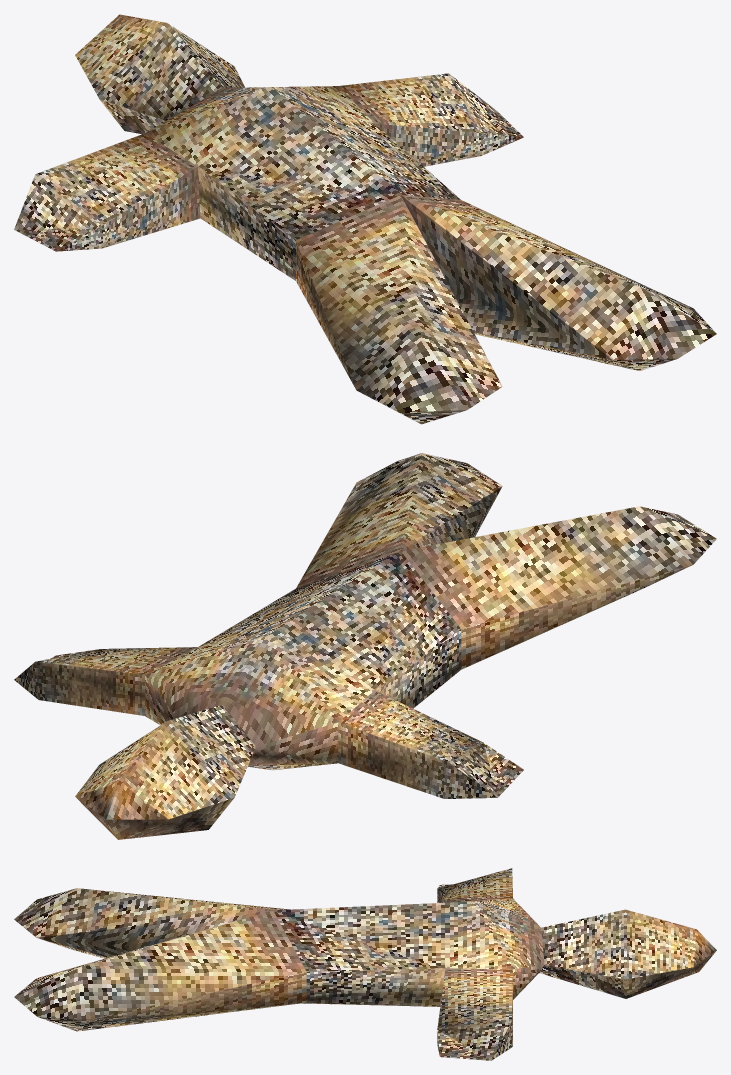
The model's file is pir_m_hnd_dol_spirit_a.fbx.
The picture shows the model from 3 angles, top to bottom: view 1: azimuth 30°, elevation 25°; view 2: azimuth 150°, elevation 25°; view 3: azimuth 270°, elevation 25°; orthographic projection. The views are drawn at different scales.
Visible parts, largest first — view 1: lod_high; view 2: lod_high; view 3: lod_high.
Boxes of the visible parts, bbox=[...] form: lod_high: bbox=[14, 14, 716, 424]; lod_high: bbox=[14, 453, 716, 839]; lod_high: bbox=[14, 868, 716, 1060].
Bounding box in the file's own units: 48.78 × 13.2 × 81.45.
1 material, 1 textured.
